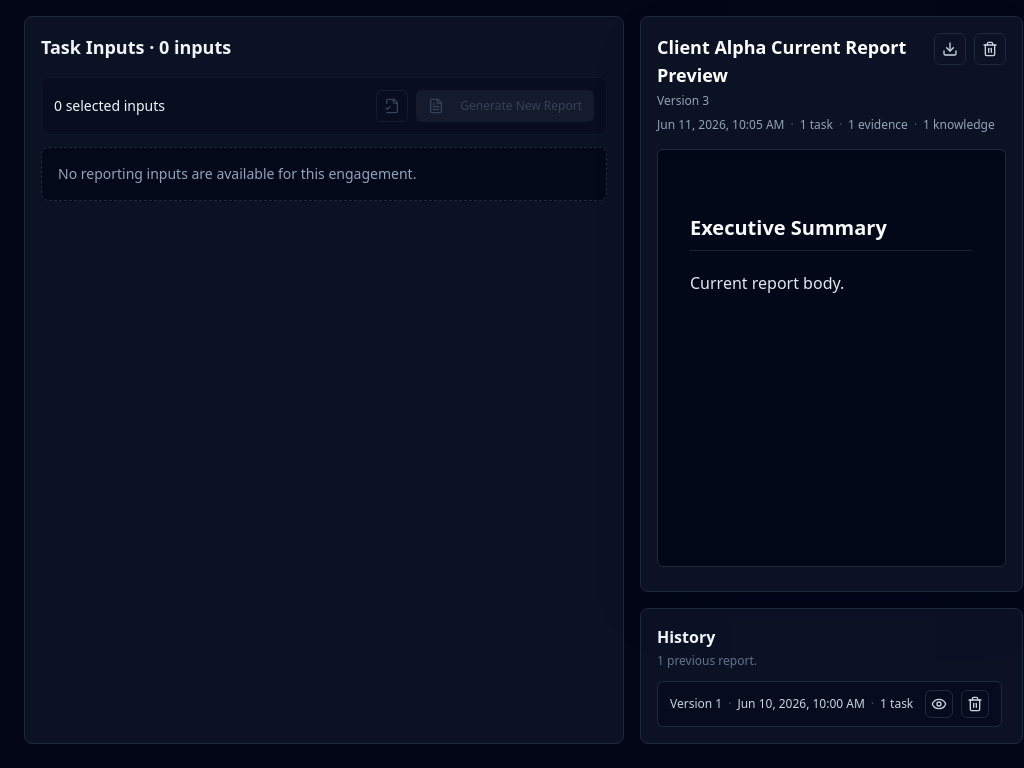
Test case: <EngagementReportingWorkspace /> › opens a historical report through detail read without mutation
(page scrolled)
Expected: the heading "Client Alpha Current Report Preview" is shown, [657,33,922,89]
Expected: the text "1 previous report." is shown, [657,653,757,669]
Click the button named "Open report Client Alpha Historical Report version 1": (939, 704) [925,690,953,718]
(page scrolled)
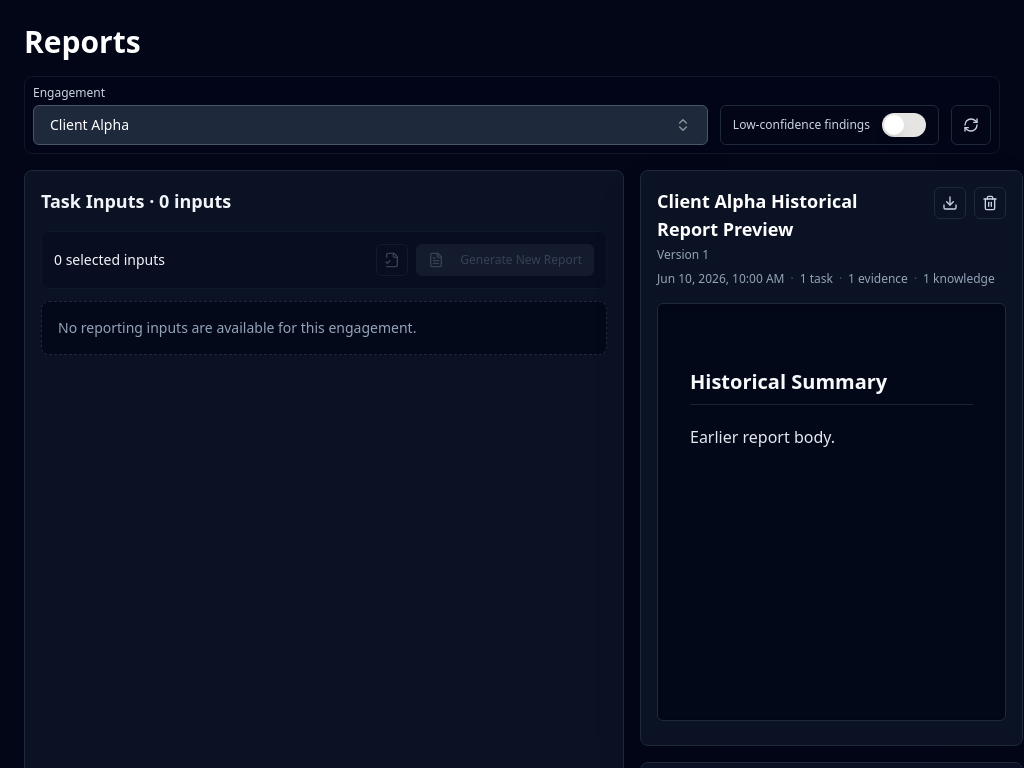
Expected: the heading "Client Alpha Historical Report Preview" is shown, [657,189,858,241]
Expected: the heading "Historical Summary" is shown, [690,368,973,405]
Expected: the text "Earlier report body." is shown, [690,426,835,448]
